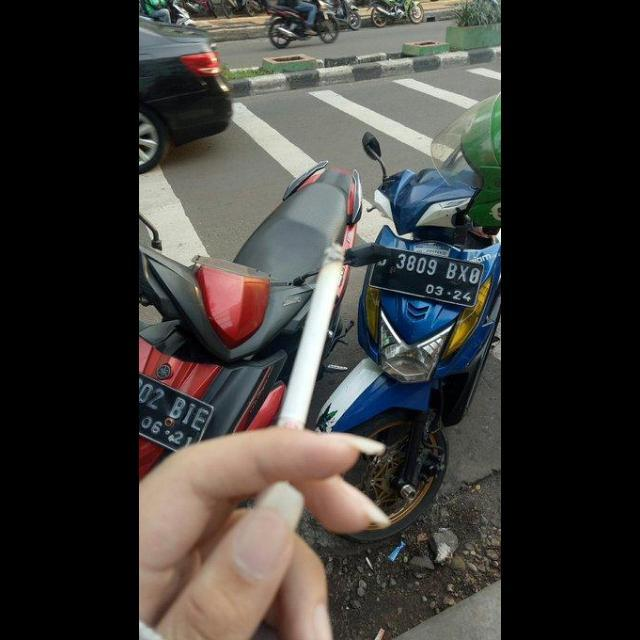rokok: (282, 237, 348, 441)
